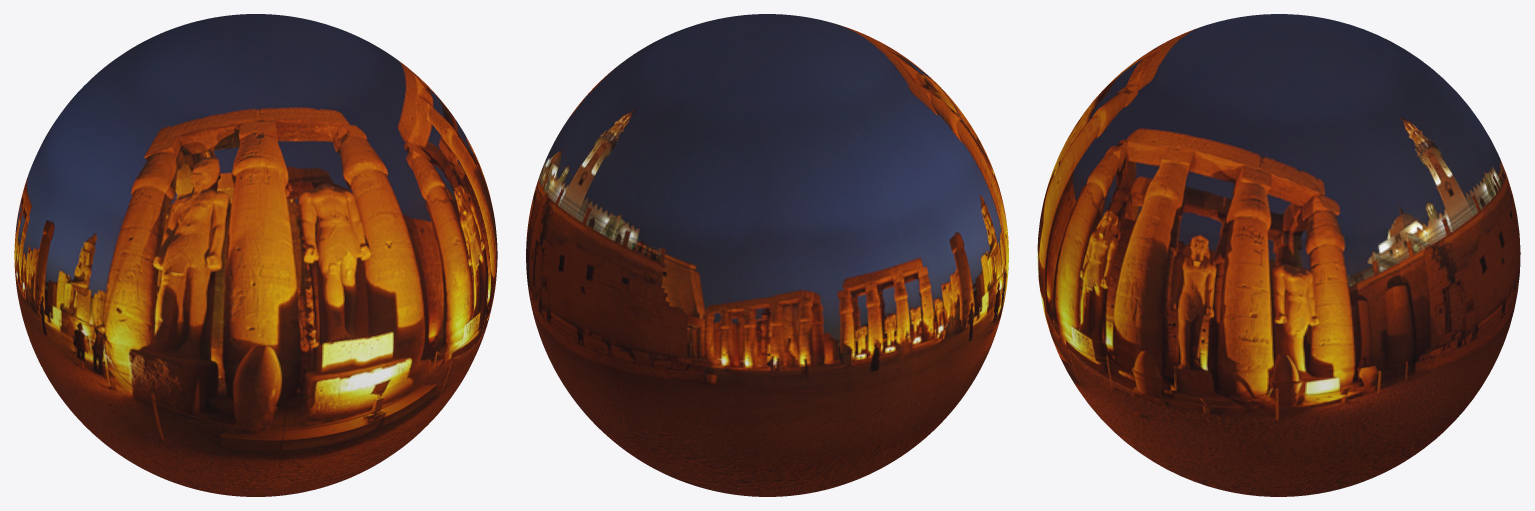
The model's file is luxortemple.glb.
The picture shows the model from 3 angles, left to right: view 1: azimuth 30°, elevation 25°; view 2: azimuth 150°, elevation 25°; view 3: azimuth 270°, elevation 25°; orthographic projection.
Visible parts, largest first — view 1: Sphere_0_4; view 2: Sphere_0_4; view 3: Sphere_0_4.
Boxes of the visible parts, box(x1,y1,x2,y2) form: Sphere_0_4: box(14, 14, 497, 496); Sphere_0_4: box(526, 14, 1008, 496); Sphere_0_4: box(1037, 14, 1520, 496).
Size of the model in its own units: 4.07 by 4.07 by 4.07.
1 material, 1 textured.
